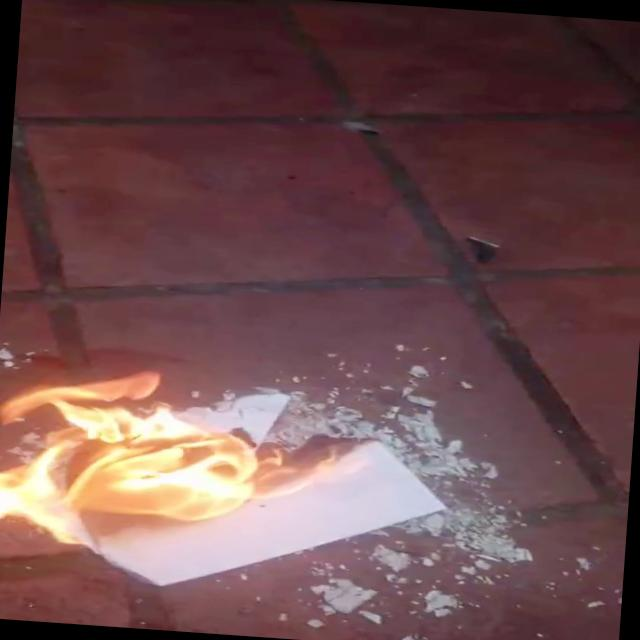Fire_Dangerous: (0, 363, 361, 555)
